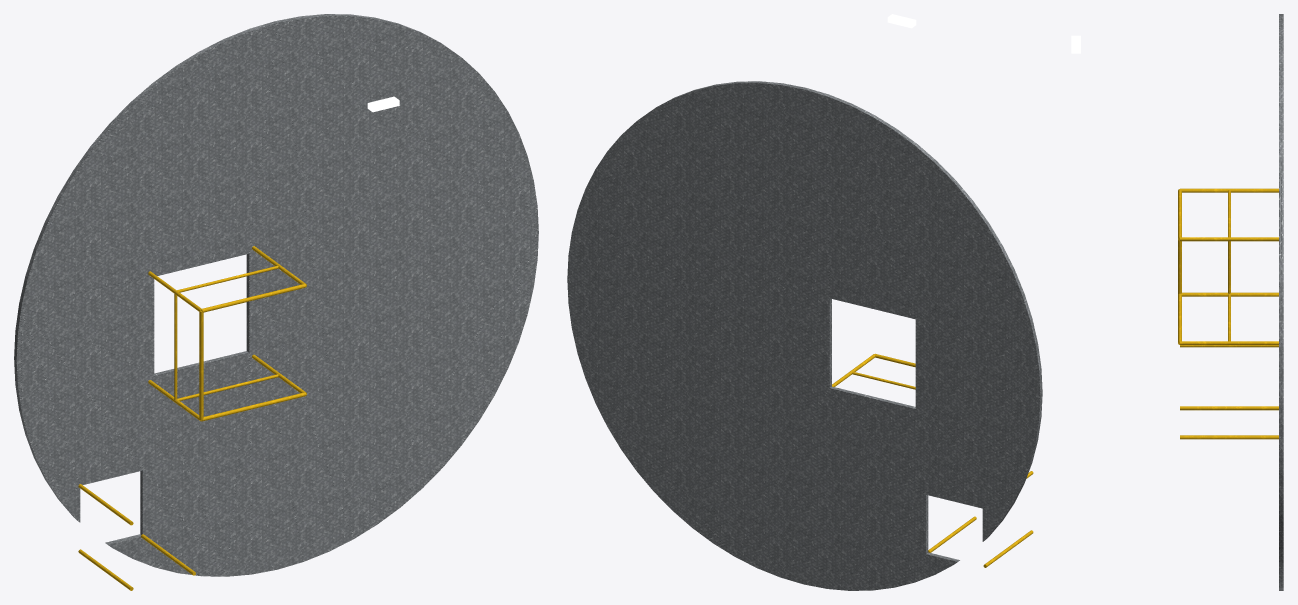
Rendered from platform_2.glb.
3 views of the same model, side by side, from view 1: azimuth 30°, elevation 25°; view 2: azimuth 150°, elevation 25°; view 3: azimuth 270°, elevation 25° (orthographic). The views are drawn at different scales.
Parts seen in each view (by area): view 1: platform_2; view 2: platform_2; view 3: platform_2.
Boxes of the visible parts, left/top/right/bottom form: platform_2: left=14, top=14, right=538, bottom=590; platform_2: left=567, top=14, right=1042, bottom=590; platform_2: left=1071, top=14, right=1283, bottom=590.
Size of the model in its own units: 5.84 by 5.84 by 2.15.
Materials: 3 (2 with a texture image).
